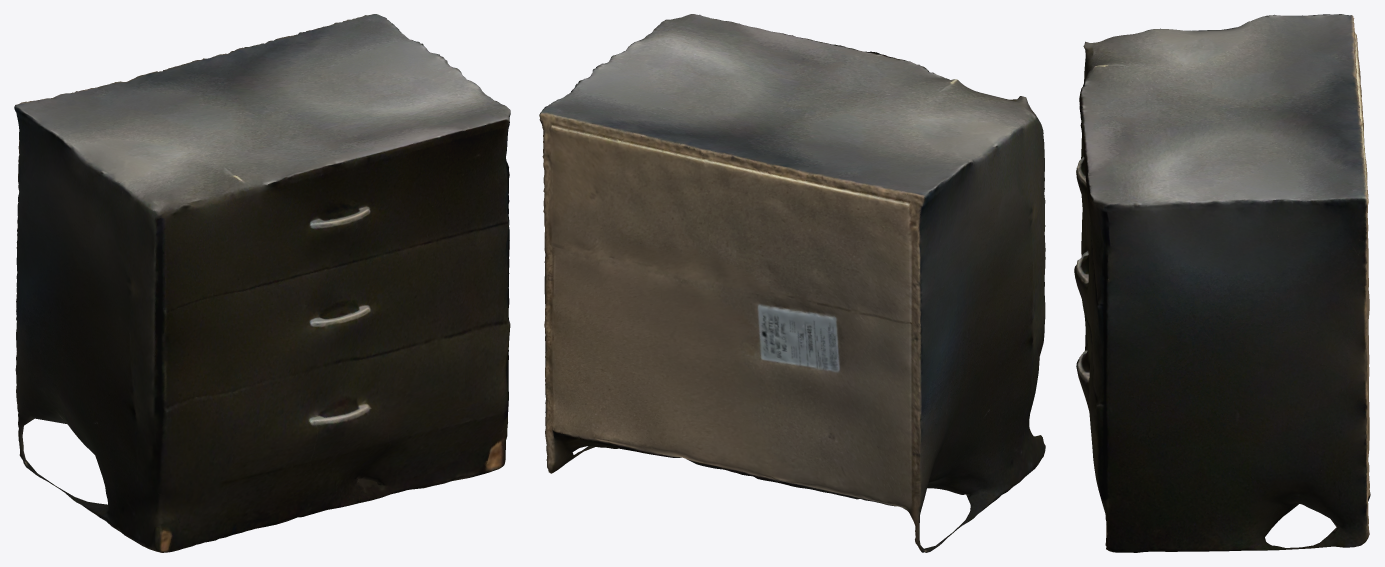
File: AR-Code-Object-Capture-app-1769025040.obj
3 views of the same model, side by side, from view 1: azimuth 30°, elevation 25°; view 2: azimuth 150°, elevation 25°; view 3: azimuth 270°, elevation 25° (orthographic). The views are drawn at different scales.
Visible parts, largest first — view 1: Mesh; view 2: Mesh; view 3: Mesh.
Boxes of the visible parts, x1=… form: Mesh: x1=14, y1=14, x2=510, y2=552; Mesh: x1=539, y1=14, x2=1045, y2=552; Mesh: x1=1074, y1=14, x2=1370, y2=552.
Size of the model in its own units: 0.7603 by 0.7111 by 0.5199.
Materials: 1 (1 with a texture image).
